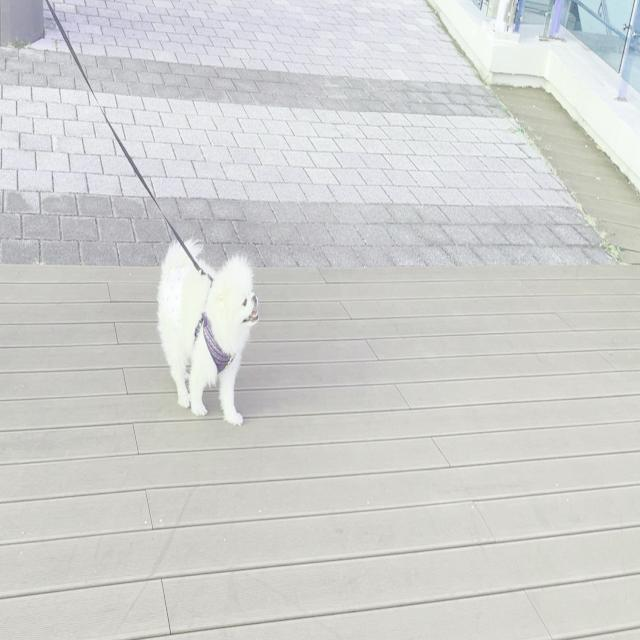Dog: (157, 240, 260, 428)
